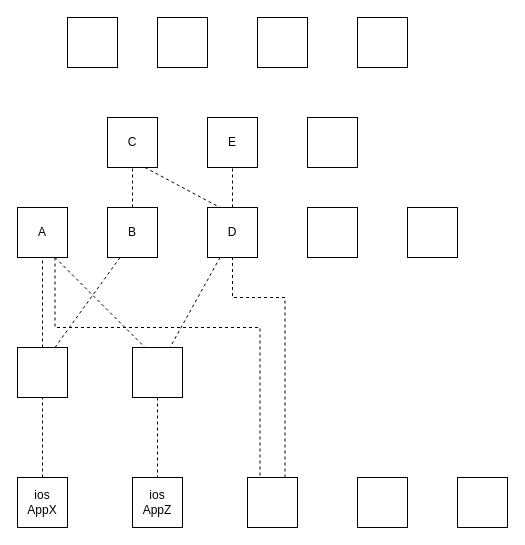
Some shapes in this 525 by 545 pixel diagram are drawn without their labels. Each missing label, with the centre of its shape:
"android AppZ" belongs at pixel 272 502.
"AppX fw bundle" belongs at pixel 42 372.
"AppZ fw bundle" belongs at pixel 157 372.
